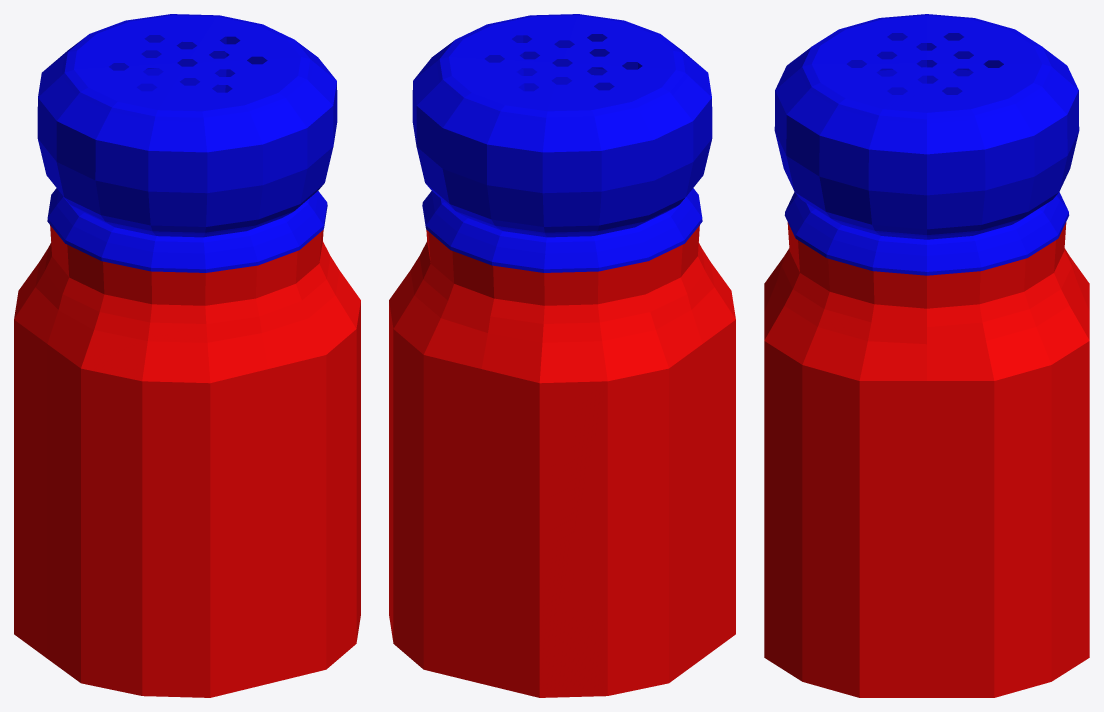
File: sel-poivre.fbx
3 renders of one model, left to right at view 1: azimuth 30°, elevation 25°; view 2: azimuth 150°, elevation 25°; view 3: azimuth 270°, elevation 25°, orthographic.
Parts seen in each view (by area): view 1: contenant; view 2: contenant; view 3: contenant.
Boxes of the visible parts, left/top/right/bottom form: contenant: left=14, top=14, right=360, bottom=697; contenant: left=389, top=14, right=735, bottom=697; contenant: left=764, top=14, right=1089, bottom=697.
Bounding box in the file's own units: 92.65 × 178 × 92.67.
